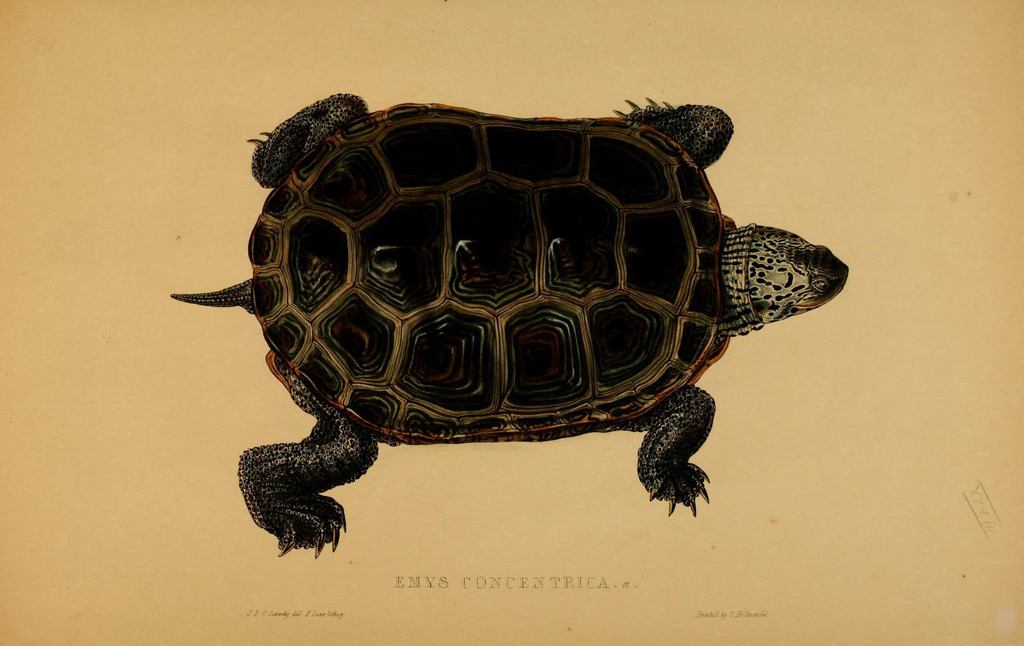Sea turtles: (167, 86, 848, 562)
